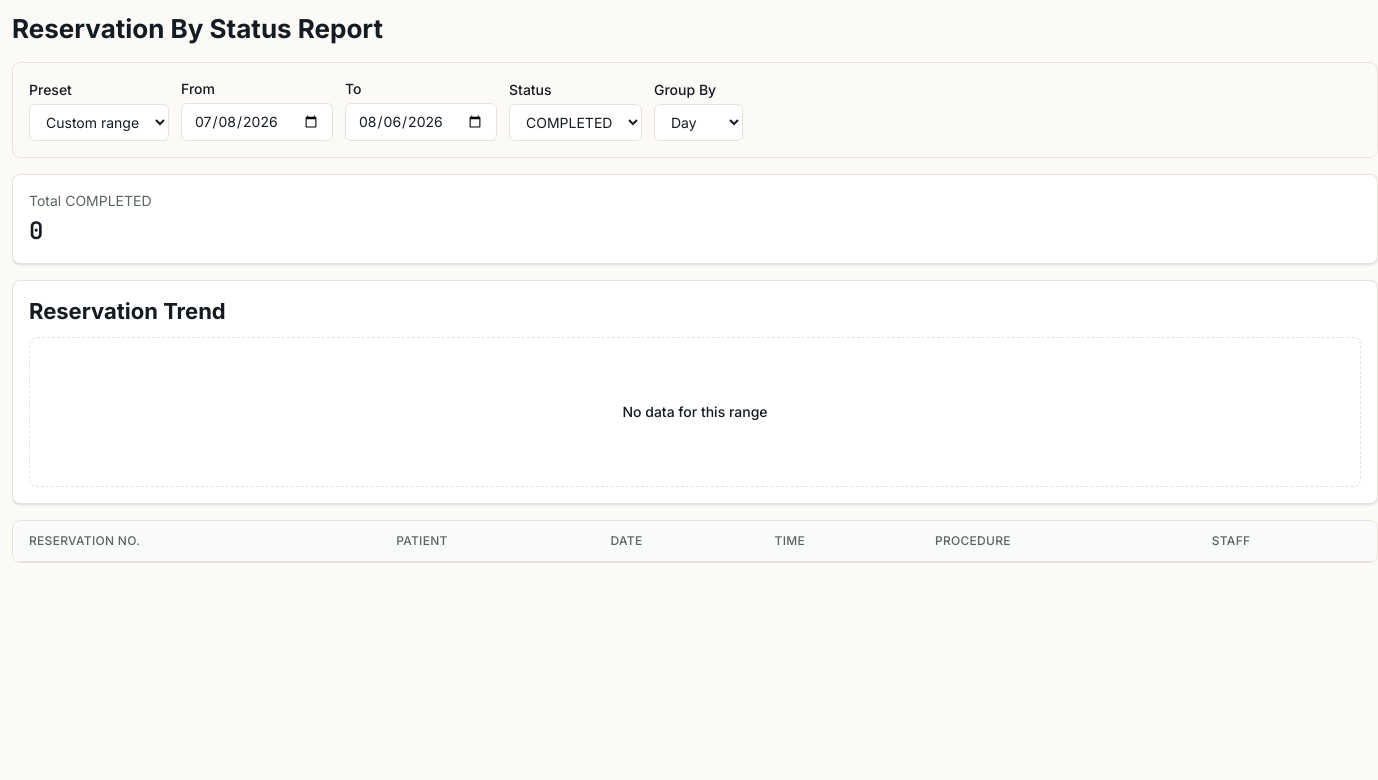
ReservationByStatusReportPage › re-queries with status=ALL when the status filter is set to All Statuses
The image size is (1378, 780).
Expected: the text "No data for this range" is shown, [622, 402, 768, 422]
Select "All Statuses" in the dropdown labelled "Status": (576,122) [509, 104, 642, 141]
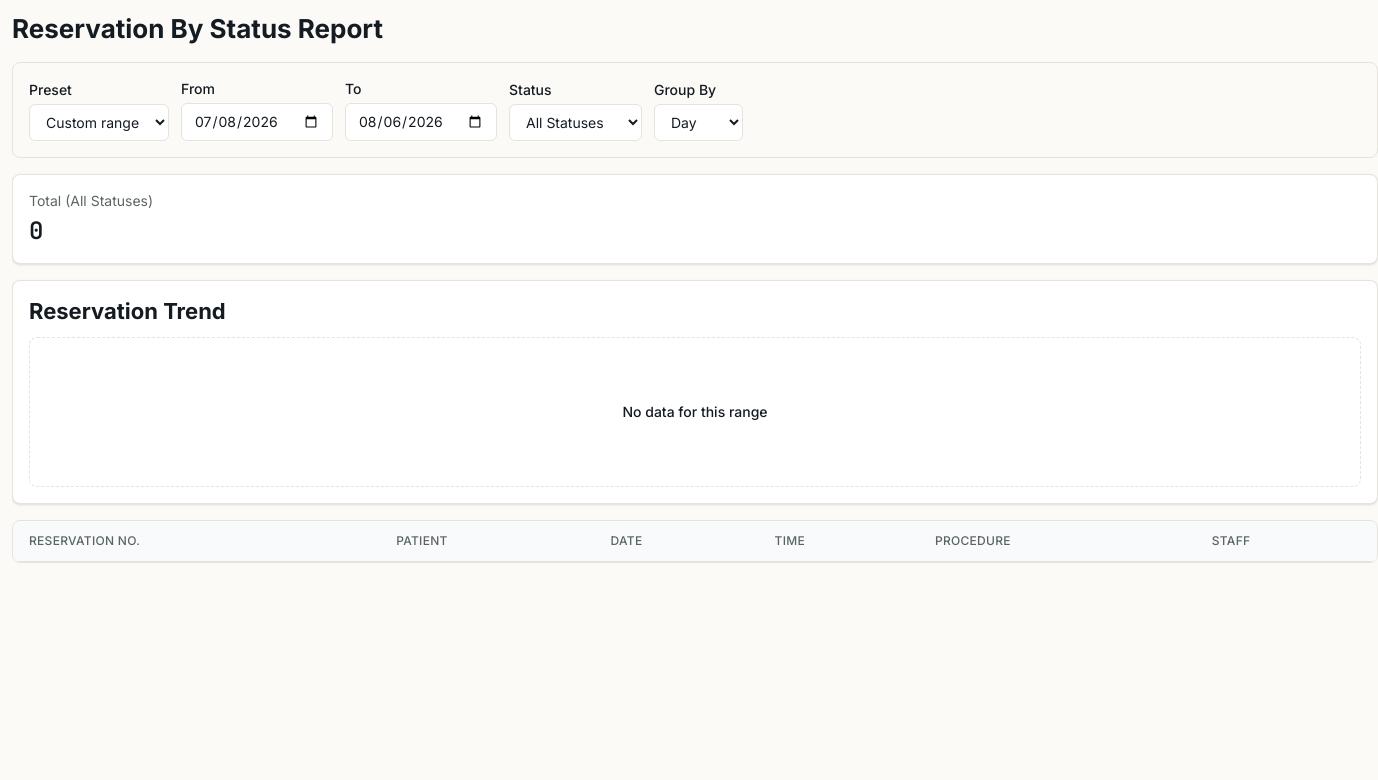
Expected: the text "Total (All Statuses)" is shown, [29, 192, 153, 209]
